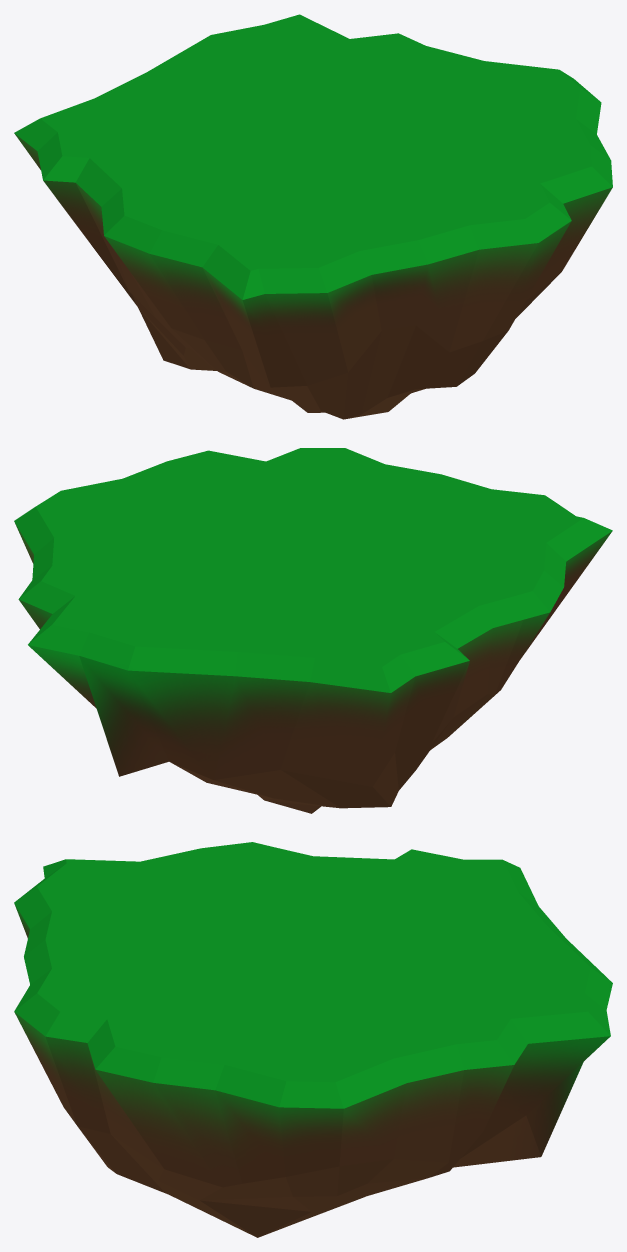
File: floating_island.glb
3 views of the same model, one above another, from view 1: azimuth 30°, elevation 25°; view 2: azimuth 150°, elevation 25°; view 3: azimuth 270°, elevation 25° (orthographic). The views are drawn at different scales.
Parts seen in each view (by area): view 1: Cone; view 2: Cone; view 3: Cone.
Part boxes in pixels (left/top/right/bottom): Cone: left=14, top=14, right=612, bottom=419; Cone: left=14, top=448, right=612, bottom=813; Cone: left=14, top=842, right=612, bottom=1237.
Bounding box in the file's own units: 92.65 × 45.88 × 90.08.
Materials: 1 (1 with a texture image).
